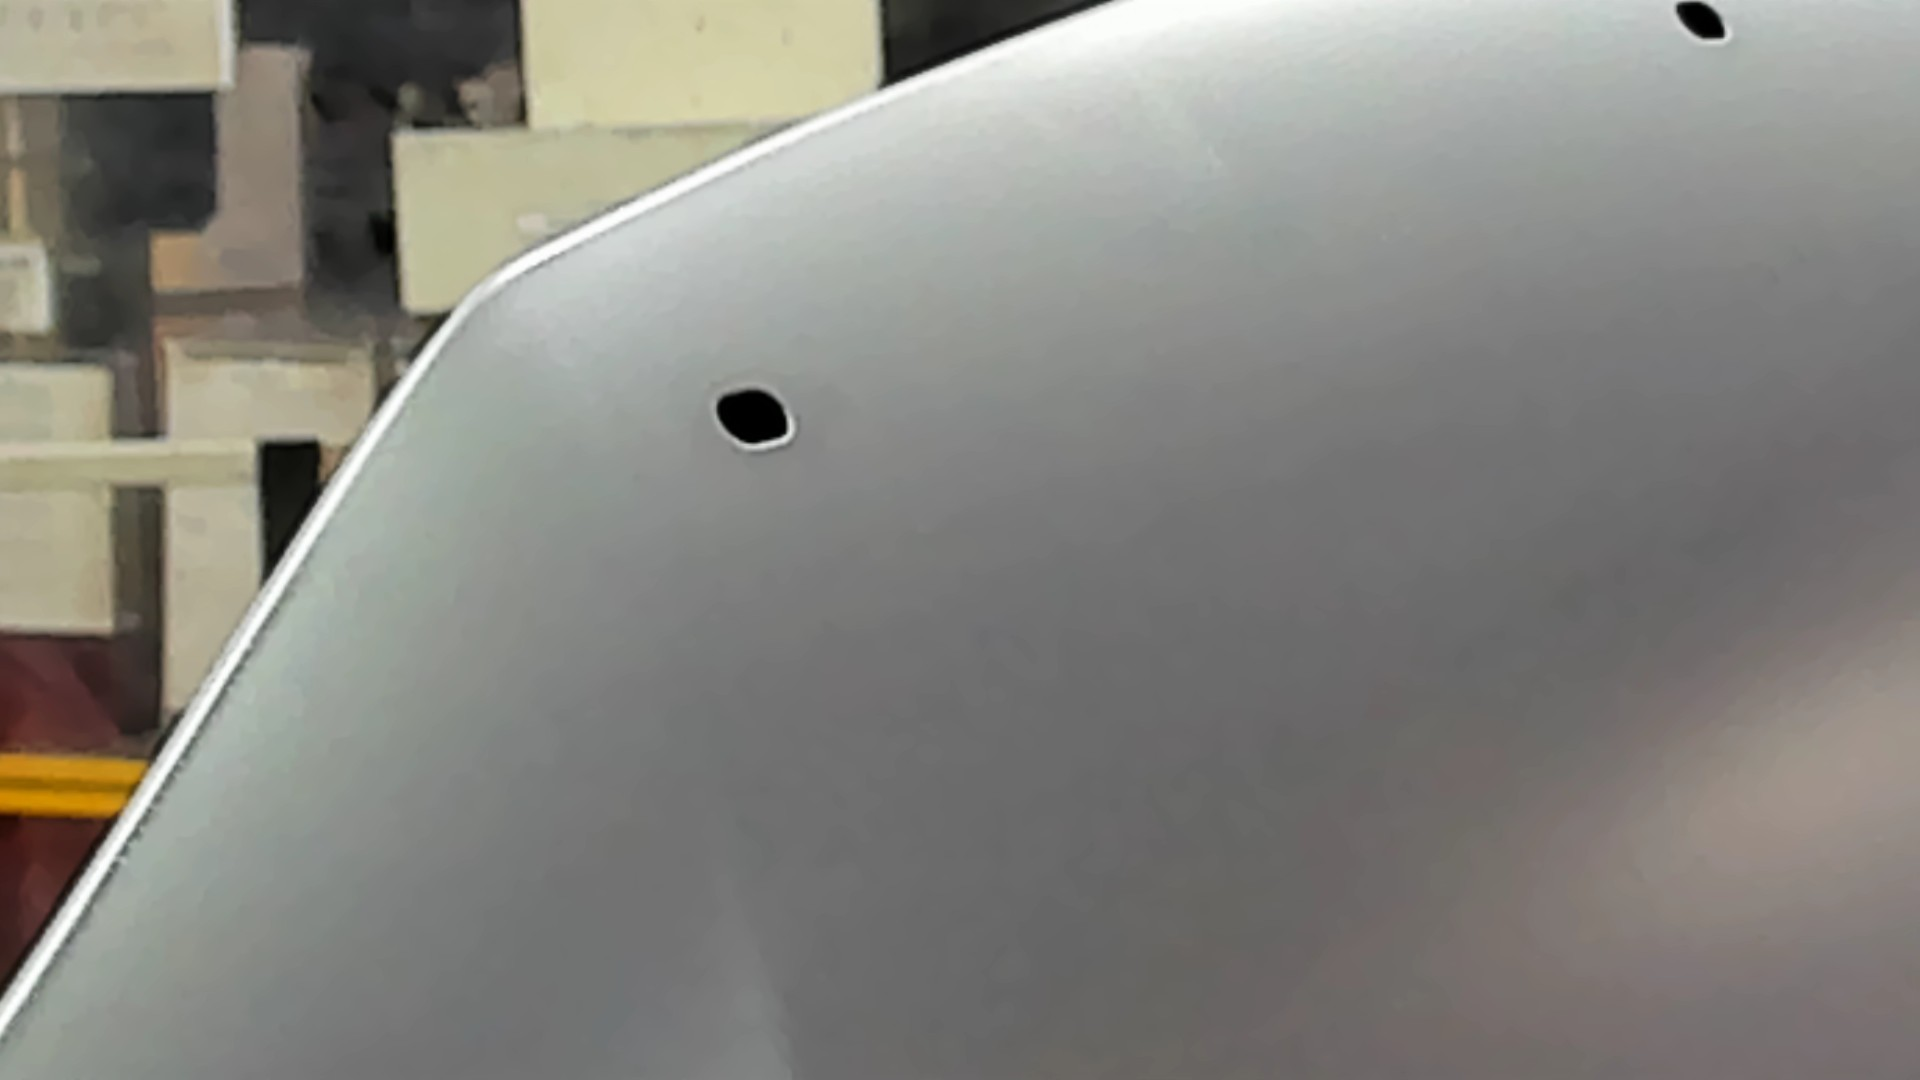amorfo: (709, 382, 804, 458), (1669, 1, 1733, 47)
